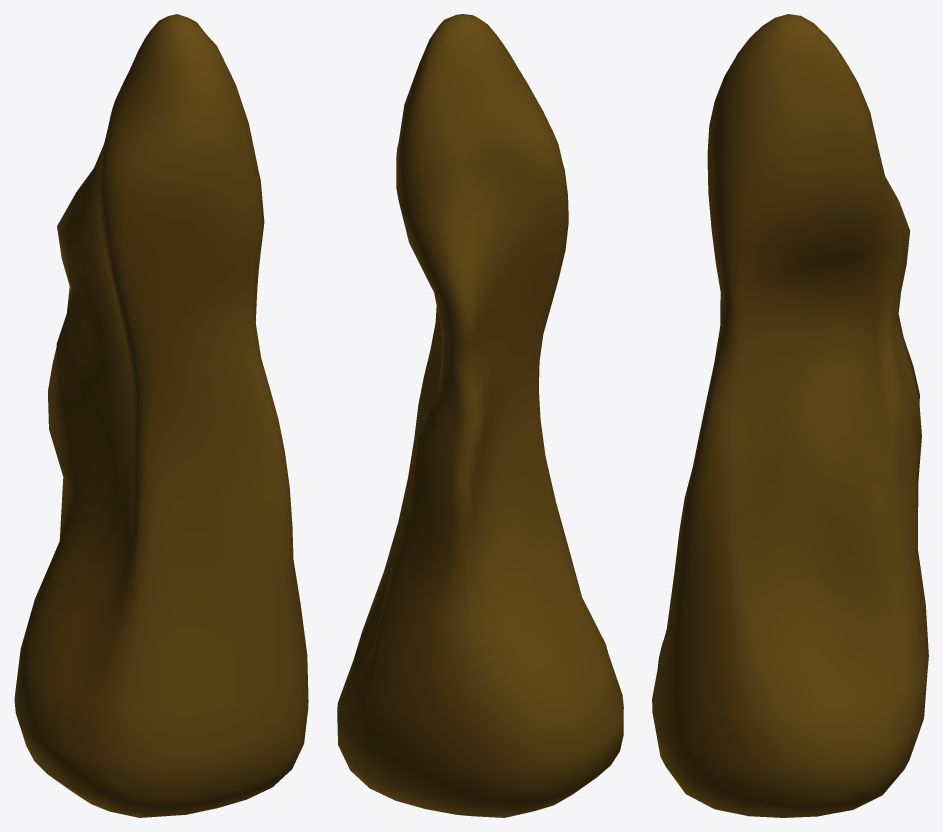
Rendered from obstacle-1.glb.
3 views of the same model, side by side, from view 1: azimuth 30°, elevation 25°; view 2: azimuth 150°, elevation 25°; view 3: azimuth 270°, elevation 25° (orthographic).
Parts seen in each view (by area): view 1: Plane.001; view 2: Plane.001; view 3: Plane.001.
Boxes of the visible parts, left/top/right/bottom form: Plane.001: left=14, top=14, right=308, bottom=817; Plane.001: left=337, top=14, right=623, bottom=817; Plane.001: left=652, top=14, right=928, bottom=817.
Bounding box in the file's own units: 6.32 × 18.5 × 5.96.
